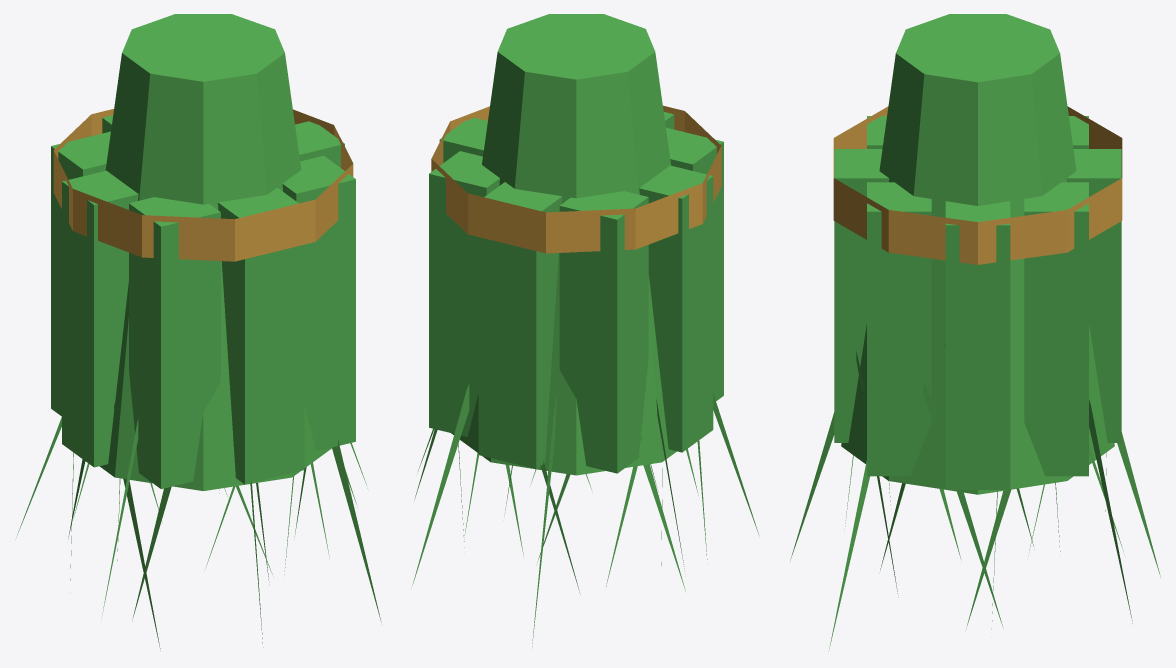
The model's file is custom_broom_cerdas_forest.obj.
3 views of the same model, side by side, from view 1: azimuth 30°, elevation 25°; view 2: azimuth 150°, elevation 25°; view 3: azimuth 270°, elevation 25° (orthographic). The views are drawn at different scales.
Bounding box in the file's own units: 0.4301 × 0.714 × 0.4341.
